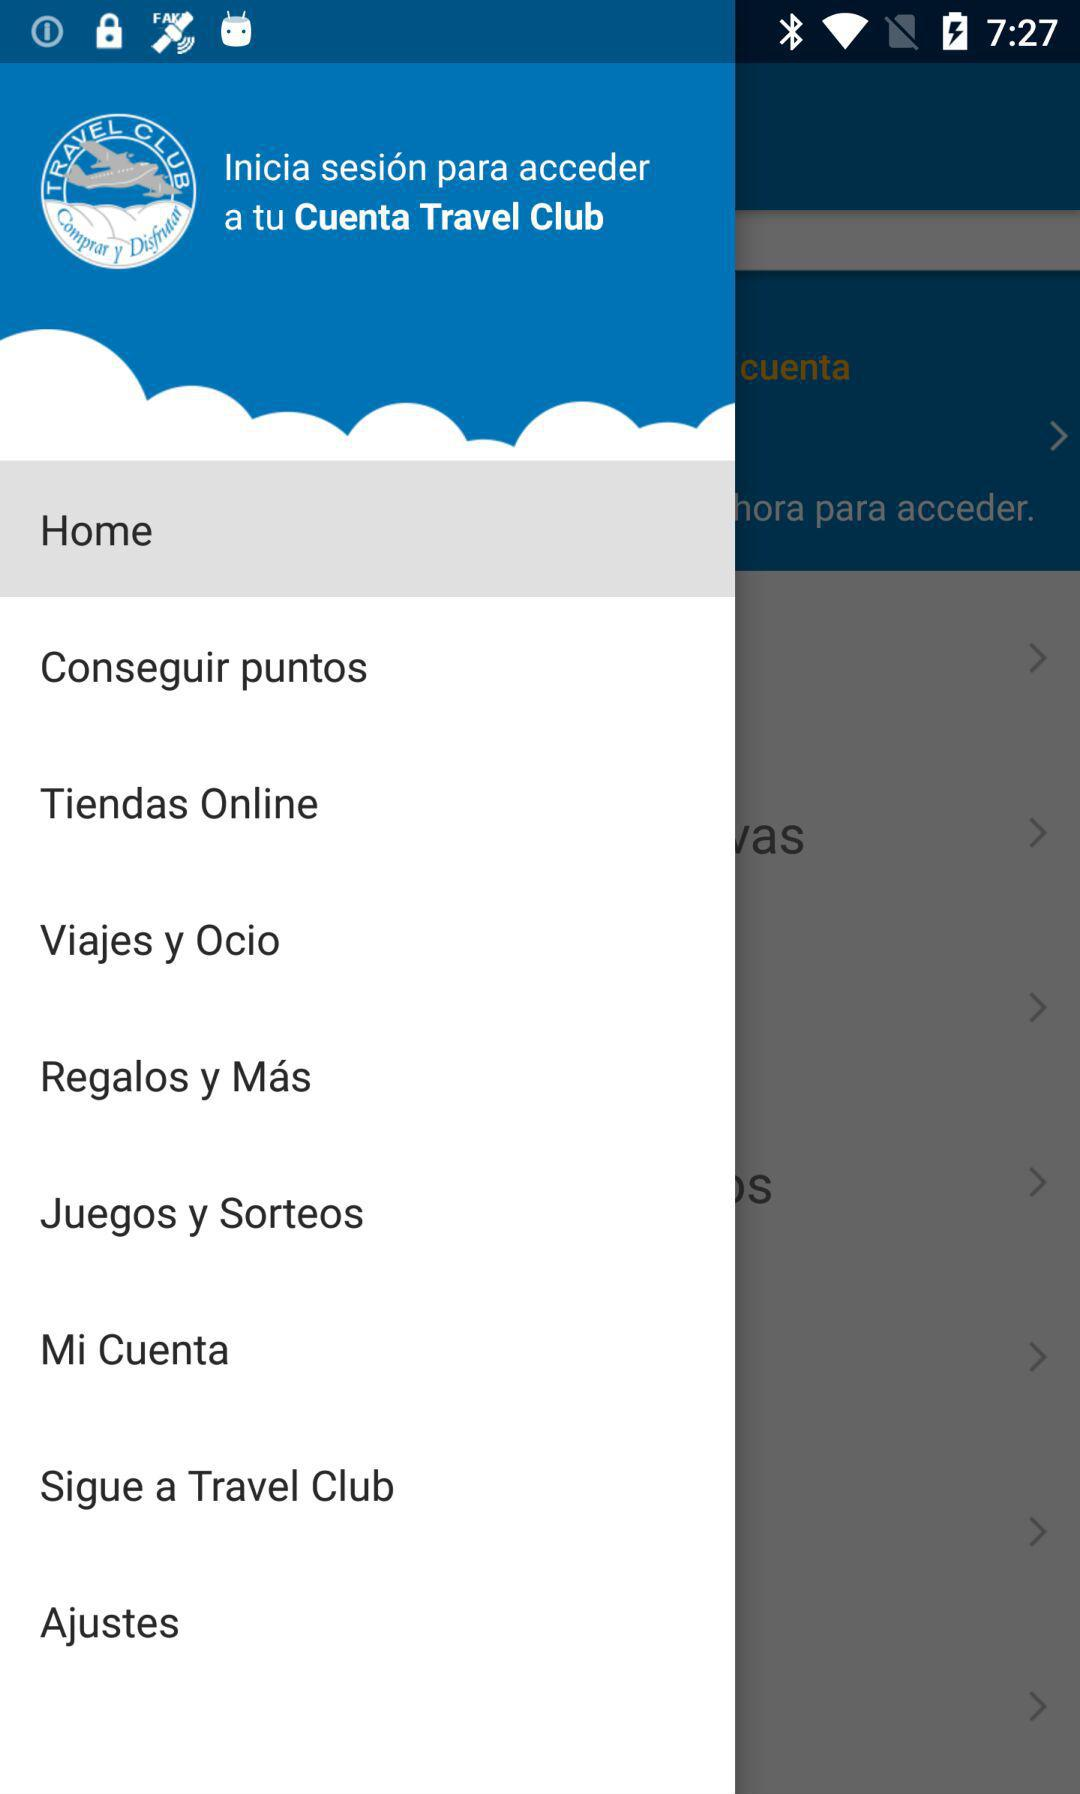Drawer: (1, 64, 735, 1794)
Image: (38, 111, 199, 273)
Text: (223, 150, 652, 236), (40, 1467, 396, 1512), (40, 648, 370, 693), (40, 1196, 365, 1240), (41, 1058, 314, 1105), (38, 923, 282, 967), (38, 784, 320, 823), (42, 1331, 232, 1369), (38, 1606, 182, 1648), (38, 513, 155, 548)
UpperTaskBar: (1, 1, 1080, 64)
